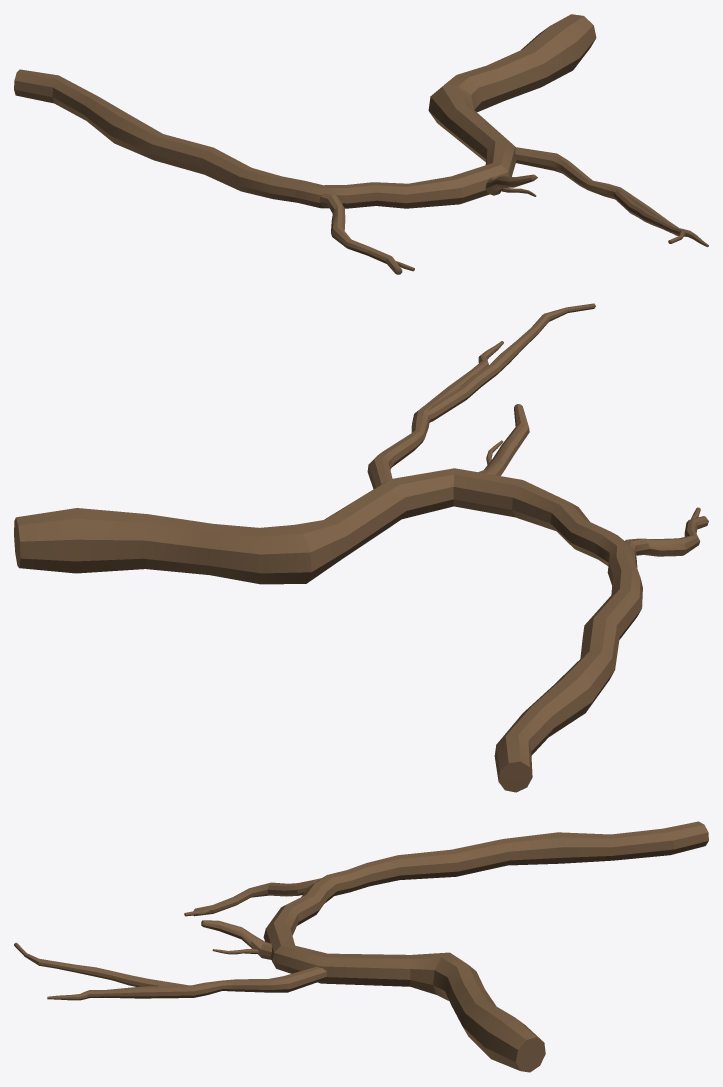
3 renders of one model, top to bottom at view 1: azimuth 30°, elevation 25°; view 2: azimuth 150°, elevation 25°; view 3: azimuth 270°, elevation 25°, orthographic. The views are drawn at different scales.
Parts seen in each view (by area): view 1: pasted__pasted__pasted__pasted__pasted__pasted__pasted__past (×5); view 2: pasted__pasted__pasted__pasted__pasted__pasted__pasted__past (×5); view 3: pasted__pasted__pasted__pasted__pasted__pasted__pasted__past (×5).
Part boxes in pixels (left/top/right/bottom): pasted__pasted__pasted__pasted__pasted__pasted__pasted__past (×5): left=14, top=14, right=708, bottom=274; pasted__pasted__pasted__pasted__pasted__pasted__pasted__past (×5): left=14, top=303, right=708, bottom=792; pasted__pasted__pasted__pasted__pasted__pasted__pasted__past (×5): left=14, top=821, right=708, bottom=1072.
Bounding box in the file's own units: 33.13 × 4.06 × 42.26.
